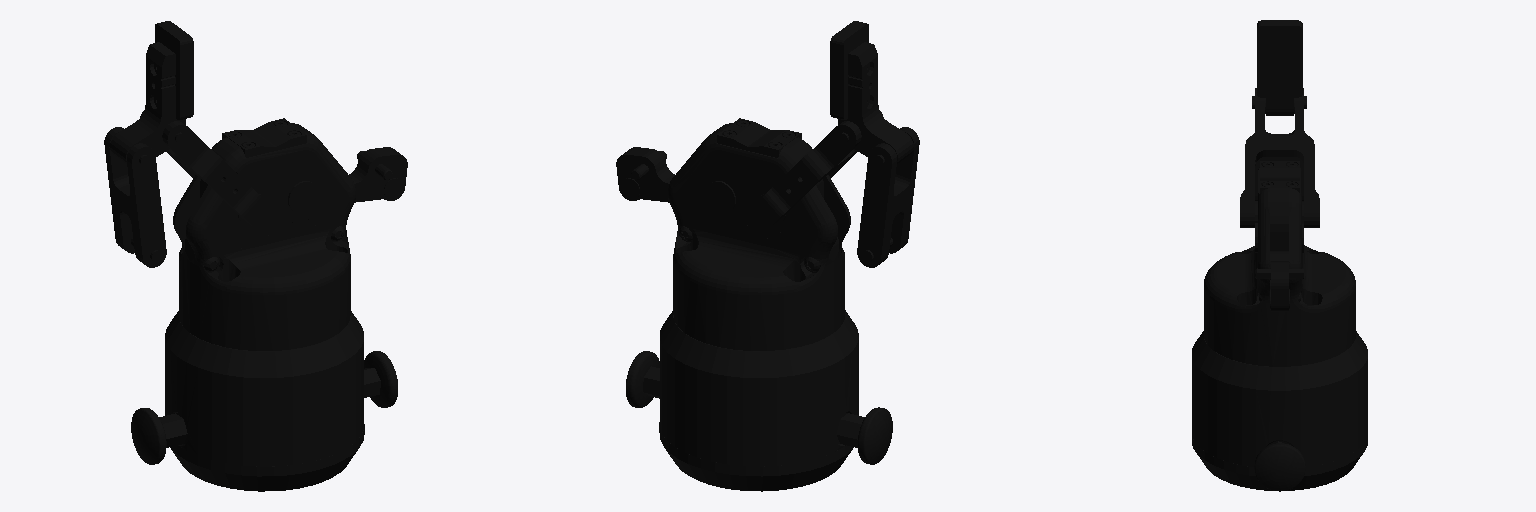
robot.urdf — robotiq_85:
<?xml version="1.0" ?>
<!-- =================================================================================== -->
<!-- |    This document was autogenerated by xacro from [local-path]/ros2_crystal/src/mara/robotiq_85_gripper_description/urdf/module_gripper.urdf.xacro | -->
<!-- |    EDITING THIS FILE BY HAND IS NOT RECOMMENDED                                 | -->
<!-- =================================================================================== -->
<robot name="robotiq_85" xmlns:xacro="http://ros.org/wiki/xacro">
  <link name="robotiq_adapter_link">
    <inertial>
      <origin rpy="0 0 0" xyz="8.625E-08 -4.6583E-06 0.03145"/>
      <mass value="0.22652"/>
      <inertia ixx="0.00020005" ixy="0" ixz="0" iyy="0.00017832" iyz="0" izz="0.00013478"/>
    </inertial>
    <visual>
      <origin rpy="0 0 0" xyz="0 0 0"/>
      <geometry>
        <mesh filename="package://robotiq_85_gripper_description/meshes/hros_robotiq_adapter.stl" scale="0.001 0.001 0.001"/>
      </geometry>
      <material name="">
        <color rgba="0.1 0.1 0.1 1"/>
      </material>
    </visual>
    <collision>
      <origin rpy="0 0 0" xyz="0 0 0"/>
      <geometry>
        <mesh filename="package://robotiq_85_gripper_description/meshes/hros_robotiq_adapter.stl" scale="0.001 0.001 0.001"/>
      </geometry>
    </collision>
  </link>
  <gazebo reference="robotiq_adapter_link">
    <material>Gazebo/Grey</material>
    <selfCollide>True</selfCollide>
  </gazebo>
  <link name="robotiq_85_base_link">
    <inertial>
      <origin rpy="0 0 0" xyz="8.625E-08 -4.6583E-06 0.03145"/>
      <mass value="0.22652"/>
      <inertia ixx="0.00020005" ixy="0" ixz="0" iyy="0.00017832" iyz="0" izz="0.00013478"/>
    </inertial>
    <visual>
      <origin rpy="0 0 0" xyz="0 0 0"/>
      <geometry>
        <mesh filename="package://robotiq_85_gripper_description/meshes/base_gripper.stl" scale="0.001 0.001 0.001"/>
      </geometry>
      <material name="">
        <color rgba="0.1 0.1 0.1 1"/>
      </material>
    </visual>
    <collision>
      <origin rpy="0 0 0" xyz="0 0 0"/>
      <geometry>
        <mesh filename="package://robotiq_85_gripper_description/meshes/base_gripper.stl" scale="0.001 0.001 0.001"/>
      </geometry>
    </collision>
  </link>
  <gazebo reference="robotiq_85_base_link">
    <material>Gazebo/Grey</material>
    <selfCollide>True</selfCollide>
  </gazebo>
  <link name="robotiq_85_left_inner_knuckle_link">
    <inertial>
      <origin rpy="0 0 0" xyz="8.625E-08 -4.6583E-06 0.03145"/>
      <mass value="0.22652"/>
      <inertia ixx="0.00020005" ixy="0" ixz="0" iyy="0.00017832" iyz="0" izz="0.00013478"/>
    </inertial>
    <visual>
      <origin rpy="0 0 0" xyz="0 0 0"/>
      <geometry>
        <mesh filename="package://robotiq_85_gripper_description/meshes/2-F-85_1_l.stl" scale="0.001 0.001 0.001"/>
      </geometry>
      <material name="">
        <color rgba="0.1 0.1 0.1 1"/>
      </material>
    </visual>
    <collision>
      <origin rpy="0 0 0" xyz="0 0 0"/>
      <geometry>
        <mesh filename="package://robotiq_85_gripper_description/meshes/2-F-85_1_l.stl" scale="0.001 0.001 0.001"/>
      </geometry>
    </collision>
  </link>
  <gazebo reference="robotiq_85_left_inner_knuckle_link">
    <material>Gazebo/Grey</material>
    <selfCollide>True</selfCollide>
  </gazebo>
  <link name="robotiq_85_right_inner_knuckle_link">
    <inertial>
      <origin rpy="0 0 0" xyz="8.625E-08 -4.6583E-06 0.03145"/>
      <mass value="0.22652"/>
      <inertia ixx="0.00020005" ixy="0" ixz="0" iyy="0.00017832" iyz="0" izz="0.00013478"/>
    </inertial>
    <visual>
      <origin rpy="0 0 0" xyz="0 0 0"/>
      <geometry>
        <mesh filename="package://robotiq_85_gripper_description/meshes/2-F-85_1_r.stl" scale="0.001 0.001 0.001"/>
      </geometry>
      <material name="">
        <color rgba="0.1 0.1 0.1 1"/>
      </material>
    </visual>
    <collision>
      <origin rpy="0 0 0" xyz="0 0 0"/>
      <geometry>
        <mesh filename="package://robotiq_85_gripper_description/meshes/2-F-85_1_r.stl" scale="0.001 0.001 0.001"/>
      </geometry>
    </collision>
  </link>
  <gazebo reference="robotiq_85_right_inner_knuckle_link">
    <material>Gazebo/Grey</material>
    <selfCollide>True</selfCollide>
  </gazebo>
  <link name="robotiq_85_left_outer_knuckle_link">
    <inertial>
      <origin rpy="0 0 0" xyz="8.625E-08 -4.6583E-06 0.03145"/>
      <mass value="0.22652"/>
      <inertia ixx="0.00020005" ixy="0" ixz="0" iyy="0.00017832" iyz="0" izz="0.00013478"/>
    </inertial>
    <visual>
      <origin rpy="0 0 0" xyz="0 0 0"/>
      <geometry>
        <mesh filename="package://robotiq_85_gripper_description/meshes/2-F-85_3_l.stl" scale="0.001 0.001 0.001"/>
      </geometry>
      <material name="">
        <color rgba="0.1 0.1 0.1 1"/>
      </material>
    </visual>
    <collision>
      <origin rpy="0 0 0" xyz="0 0 0"/>
      <geometry>
        <mesh filename="package://robotiq_85_gripper_description/meshes/2-F-85_3_l.stl" scale="0.001 0.001 0.001"/>
      </geometry>
    </collision>
  </link>
  <gazebo reference="robotiq_85_left_outer_knuckle_link">
    <material>Gazebo/Grey</material>
    <selfCollide>True</selfCollide>
  </gazebo>
  <link name="robotiq_85_right_outer_knuckle_link">
    <inertial>
      <origin rpy="0 0 0" xyz="8.625E-08 -4.6583E-06 0.03145"/>
      <mass value="0.22652"/>
      <inertia ixx="0.00020005" ixy="0" ixz="0" iyy="0.00017832" iyz="0" izz="0.00013478"/>
    </inertial>
    <visual>
      <origin rpy="0 0 0" xyz="0 0 0"/>
      <geometry>
        <mesh filename="package://robotiq_85_gripper_description/meshes/2-F-85_3_r.stl" scale="0.001 0.001 0.001"/>
      </geometry>
      <material name="">
        <color rgba="0.1 0.1 0.1 1"/>
      </material>
    </visual>
    <collision>
      <origin rpy="0 0 0" xyz="0 0 0"/>
      <geometry>
        <mesh filename="package://robotiq_85_gripper_description/meshes/2-F-85_3_r.stl" scale="0.001 0.001 0.001"/>
      </geometry>
    </collision>
  </link>
  <gazebo reference="robotiq_85_right_outer_knuckle_link">
    <material>Gazebo/Grey</material>
    <selfCollide>True</selfCollide>
  </gazebo>
  <link name="robotiq_85_left_inner_finger_link">
    <inertial>
      <origin rpy="0 0 0" xyz="8.625E-08 -4.6583E-06 0.03145"/>
      <mass value="0.22652"/>
      <inertia ixx="0.00020005" ixy="0" ixz="0" iyy="0.00017832" iyz="0" izz="0.00013478"/>
    </inertial>
    <visual>
      <origin rpy="0 0 0" xyz="0 0 0"/>
      <geometry>
        <mesh filename="package://robotiq_85_gripper_description/meshes/2-F-85_2_l.stl" scale="0.001 0.001 0.001"/>
      </geometry>
      <material name="">
        <color rgba="0.1 0.1 0.1 1"/>
      </material>
    </visual>
    <collision>
      <origin rpy="0 0 0" xyz="0 0 0"/>
      <geometry>
        <mesh filename="package://robotiq_85_gripper_description/meshes/2-F-85_2_l.stl" scale="0.001 0.001 0.001"/>
      </geometry>
    </collision>
  </link>
  <gazebo reference="robotiq_85_left_inner_finger_link">
    <material>Gazebo/Grey</material>
    <selfCollide>True</selfCollide>
  </gazebo>
  <link name="robotiq_85_right_inner_finger_link">
    <inertial>
      <origin rpy="0 0 0" xyz="8.625E-08 -4.6583E-06 0.03145"/>
      <mass value="0.22652"/>
      <inertia ixx="0.00020005" ixy="0" ixz="0" iyy="0.00017832" iyz="0" izz="0.00013478"/>
    </inertial>
    <visual>
      <origin rpy="0 0 0" xyz="0 0 0"/>
      <geometry>
        <mesh filename="package://robotiq_85_gripper_description/meshes/2-F-85_2_r.stl" scale="0.001 0.001 0.001"/>
      </geometry>
      <material name="">
        <color rgba="0.1 0.1 0.1 1"/>
      </material>
    </visual>
    <collision>
      <origin rpy="0 0 0" xyz="0 0 0"/>
      <geometry>
        <mesh filename="package://robotiq_85_gripper_description/meshes/2-F-85_2_r.stl" scale="0.001 0.001 0.001"/>
      </geometry>
    </collision>
  </link>
  <gazebo reference="robotiq_85_right_inner_finger_link">
    <material>Gazebo/Grey</material>
    <selfCollide>True</selfCollide>
  </gazebo>
  <link name="robotiq_85_left_finger_link">
    <inertial>
      <origin rpy="0 0 0" xyz="8.625E-08 -4.6583E-06 0.03145"/>
      <mass value="0.22652"/>
      <inertia ixx="0.00020005" ixy="0" ixz="0" iyy="0.00017832" iyz="0" izz="0.00013478"/>
    </inertial>
    <visual>
      <origin rpy="0 0 0" xyz="0 0 0"/>
      <geometry>
        <mesh filename="package://robotiq_85_gripper_description/meshes/2-F-85_4_l.stl" scale="0.001 0.001 0.001"/>
      </geometry>
      <material name="">
        <color rgba="0.1 0.1 0.1 1"/>
      </material>
    </visual>
    <collision>
      <origin rpy="0 0 0" xyz="0 0 0"/>
      <geometry>
        <mesh filename="package://robotiq_85_gripper_description/meshes/2-F-85_4_l.stl" scale="0.001 0.001 0.001"/>
      </geometry>
    </collision>
  </link>
  <gazebo reference="robotiq_85_left_finger_link">
    <material>Gazebo/Grey</material>
    <selfCollide>True</selfCollide>
  </gazebo>
  <link name="robotiq_85_right_finger_link">
    <inertial>
      <origin rpy="0 0 0" xyz="8.625E-08 -4.6583E-06 0.03145"/>
      <mass value="0.22652"/>
      <inertia ixx="0.00020005" ixy="0" ixz="0" iyy="0.00017832" iyz="0" izz="0.00013478"/>
    </inertial>
    <visual>
      <origin rpy="0 0 0" xyz="0 0 0"/>
      <geometry>
        <mesh filename="package://robotiq_85_gripper_description/meshes/2-F-85_4_r.stl" scale="0.001 0.001 0.001"/>
      </geometry>
      <material name="">
        <color rgba="0.1 0.1 0.1 1"/>
      </material>
    </visual>
    <collision>
      <origin rpy="0 0 0" xyz="0 0 0"/>
      <geometry>
        <mesh filename="package://robotiq_85_gripper_description/meshes/2-F-85_4_r.stl" scale="0.001 0.001 0.001"/>
      </geometry>
    </collision>
  </link>
  <gazebo reference="robotiq_85_right_finger_link">
    <material>Gazebo/Grey</material>
    <selfCollide>True</selfCollide>
  </gazebo>
  <joint name="base_adapter_to_base_robotiq_joint" type="fixed">
    <origin rpy="0 0 0" xyz=" 0 0 0.03653"/>
    <parent link="robotiq_adapter_link"/>
    <child link="robotiq_85_base_link"/>
  </joint>
  <joint name="left_inner_knuckle_joint" type="revolute">
    <origin rpy="0 0 0" xyz="-0.0306 0 0.05490"/>
    <parent link="robotiq_85_base_link"/>
    <child link="robotiq_85_left_inner_knuckle_link"/>
    <axis xyz="0 1 0"/>
    <limit effort="1000" lower="0" upper="0.794" velocity="2.0"/>
  </joint>
  <joint name="right_inner_knuckle_joint" type="revolute">
    <origin rpy="0 0 3.1416" xyz="0.0306 0 0.05490"/>
    <parent link="robotiq_85_base_link"/>
    <child link="robotiq_85_right_inner_knuckle_link"/>
    <axis xyz="0 1 0"/>
    <limit effort="1000" lower="0" upper="0.794" velocity="2.0"/>
  </joint>
  <joint name="left_outer_knuckle_joint" type="revolute">
    <origin rpy="0 0 0" xyz="-0.03156 0 -0.003758"/>
    <parent link="robotiq_85_left_inner_knuckle_link"/>
    <child link="robotiq_85_left_outer_knuckle_link"/>
    <axis xyz="0 -1 0"/>
    <limit effort="1000" lower="0" upper="0.8757" velocity="2.0"/>
  </joint>
  <joint name="right_outer_knuckle_joint" type="revolute">
    <origin rpy="0 0 0" xyz="-0.03156 0 -0.003758"/>
    <parent link="robotiq_85_right_inner_knuckle_link"/>
    <child link="robotiq_85_right_outer_knuckle_link"/>
    <axis xyz="0 -1 0"/>
    <limit effort="1000" lower="0" upper="0.8757" velocity="2.0"/>
  </joint>
  <joint name="left_inner_finger_joint" type="revolute">
    <origin rpy="0 0 0" xyz="-0.0127 0 0.06142"/>
    <parent link="robotiq_85_base_link"/>
    <child link="robotiq_85_left_inner_finger_link"/>
    <axis xyz="0 1 0"/>
    <limit effort="1000" lower="0" upper="0.8757" velocity="2.0"/>
  </joint>
  <joint name="right_inner_finger_joint" type="revolute">
    <origin rpy="0 0 3.1416" xyz="0.0127 0 0.06142"/>
    <parent link="robotiq_85_base_link"/>
    <child link="robotiq_85_right_inner_finger_link"/>
    <axis xyz="0 1 0"/>
    <limit effort="1000" lower="0" upper="0.8757" velocity="2.0"/>
  </joint>
  <joint name="left_finger_joint" type="revolute">
    <origin rpy="0 0.0 0" xyz="-0.005625 0 0.04718"/>
    <parent link="robotiq_85_left_outer_knuckle_link"/>
    <child link="robotiq_85_left_finger_link"/>
    <axis xyz="0 -1 0"/>
    <limit effort="1000" lower="-0.1" upper="0.8757" velocity="2.0"/>
  </joint>
  <joint name="right_finger_joint" type="revolute">
    <origin rpy="0 0 0" xyz="-0.005625 0 0.04718"/>
    <parent link="robotiq_85_right_outer_knuckle_link"/>
    <child link="robotiq_85_right_finger_link"/>
    <axis xyz="0 -1 0"/>
    <limit effort="1000" lower="-0.1" upper="0.8757" velocity="2.0"/>
  </joint>
  <gazebo>
    <plugin name='gripper' filename='librobotiq_gripper_gazebo_plugin.so'/>
    <joint name="left_finger_joint2" type="revolute">
      <pose frame="">0.017901 0 0.00651469 0 0 0</pose>
      <parent>robotiq85::robotiq_85_left_inner_finger_link</parent>
      <child>robotiq85::robotiq_85_left_finger_link</child>
      <axis>
        <xyz>0 -1 0</xyz>
        <limit>
          <lower>-0.1</lower>
          <upper>0.8</upper>
          <velocity>2.0</velocity>
          <effort>1000</effort>
        </limit>
      </axis>
    </joint>
    <joint name="right_finger_joint2" type="revolute">
      <pose frame="">0.017901 0 0.00651469 0 0 0</pose>
      <parent>robotiq85::robotiq_85_right_inner_finger_link</parent>
      <child>robotiq85::robotiq_85_right_finger_link</child>
      <axis>
        <xyz>0 1 0</xyz>
        <limit>
          <lower>-0.1</lower>
          <upper>0.8</upper>
          <velocity>2.0</velocity>
          <effort>1000</effort>
        </limit>
      </axis>
    </joint>
  </gazebo>
  <link name="world"/>
  <joint name="world_to_hande_joint" type="fixed">
    <origin rpy="0 0 0" xyz="0 0 0.5"/>
    <parent link="world"/>
    <child link="robotiq_adapter_link"/>
  </joint>
</robot>

--- What the picture shows (computed from the rendered views, not written in the file) ---
The picture shows the robot from 3 angles, left to right: view 1: azimuth 30°, elevation 25°; view 2: azimuth 150°, elevation 25°; view 3: azimuth 270°, elevation 25°; orthographic projection.
Robot: robotiq_85 — 11 links, 10 joints (8 revolute, 2 fixed); root link world; default pose: all joints at 0.
Visible links, largest first — view 1: robotiq_85_base_link, robotiq_adapter_link, robotiq_85_left_finger_link, robotiq_85_left_outer_knuckle_link, robotiq_85_left_inner_finger_link, robotiq_85_right_inner_knuckle_link; view 2: robotiq_85_base_link, robotiq_adapter_link, robotiq_85_left_finger_link, robotiq_85_left_outer_knuckle_link, robotiq_85_left_inner_finger_link, robotiq_85_right_inner_knuckle_link; view 3: robotiq_adapter_link, robotiq_85_base_link, robotiq_85_left_inner_finger_link, robotiq_85_left_finger_link, robotiq_85_right_inner_knuckle_link.
Link boxes in pixels (<box>): robotiq_85_base_link: <box>173,118,355,350</box>; robotiq_adapter_link: <box>131,311,397,491</box>; robotiq_85_left_finger_link: <box>110,21,193,163</box>; robotiq_85_left_outer_knuckle_link: <box>104,127,166,267</box>; robotiq_85_left_inner_finger_link: <box>140,111,273,228</box>; robotiq_85_right_inner_knuckle_link: <box>349,147,407,202</box>; robotiq_85_base_link: <box>668,118,850,350</box>; robotiq_adapter_link: <box>626,310,892,491</box>; robotiq_85_left_finger_link: <box>830,21,913,163</box>; robotiq_85_left_outer_knuckle_link: <box>857,127,919,267</box>; robotiq_85_left_inner_finger_link: <box>750,111,882,228</box>; robotiq_85_right_inner_knuckle_link: <box>616,147,674,202</box>; robotiq_adapter_link: <box>1192,331,1367,491</box>; robotiq_85_base_link: <box>1204,161,1355,366</box>; robotiq_85_left_inner_finger_link: <box>1240,92,1319,227</box>; robotiq_85_left_finger_link: <box>1257,20,1302,115</box>; robotiq_85_right_inner_knuckle_link: <box>1255,251,1303,311</box>.
Bounding box of the posed robot: 0.143 × 0.0869 × 0.2149 m (x, y, z).
Meshes: 10 distinct files referenced, 6 mesh visuals loaded (6 binary STL); not drawn: 4 (reference not matched to a file when rendering).
